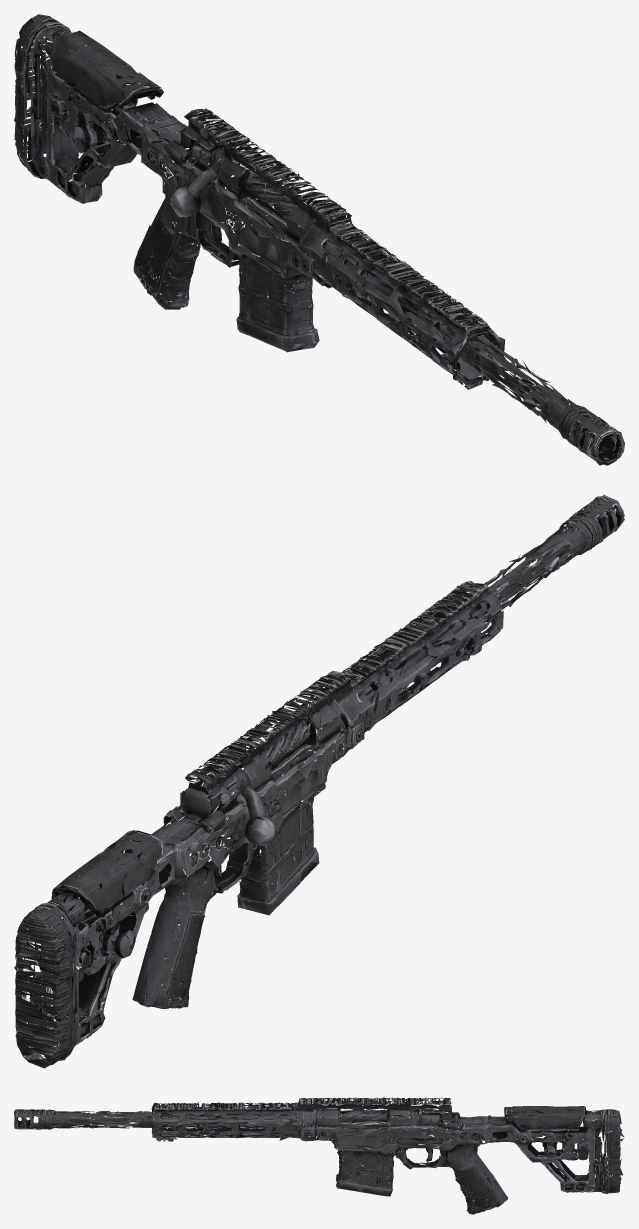
File: Sniper_Shadow.fbx
The picture shows the model from 3 angles, top to bottom: view 1: azimuth 30°, elevation 25°; view 2: azimuth 150°, elevation 25°; view 3: azimuth 270°, elevation 25°; orthographic projection. The views are drawn at different scales.
Parts seen in each view (by area): view 1: GunMesh; view 2: GunMesh; view 3: GunMesh.
Part boxes in pixels (<box>): GunMesh: <box>14,14,624,465</box>; GunMesh: <box>14,494,624,1068</box>; GunMesh: <box>14,1097,624,1214</box>.
Size of the model in its own units: 0.0971 by 0.2482 by 1.21.
Materials: 1 (1 with a texture image).
